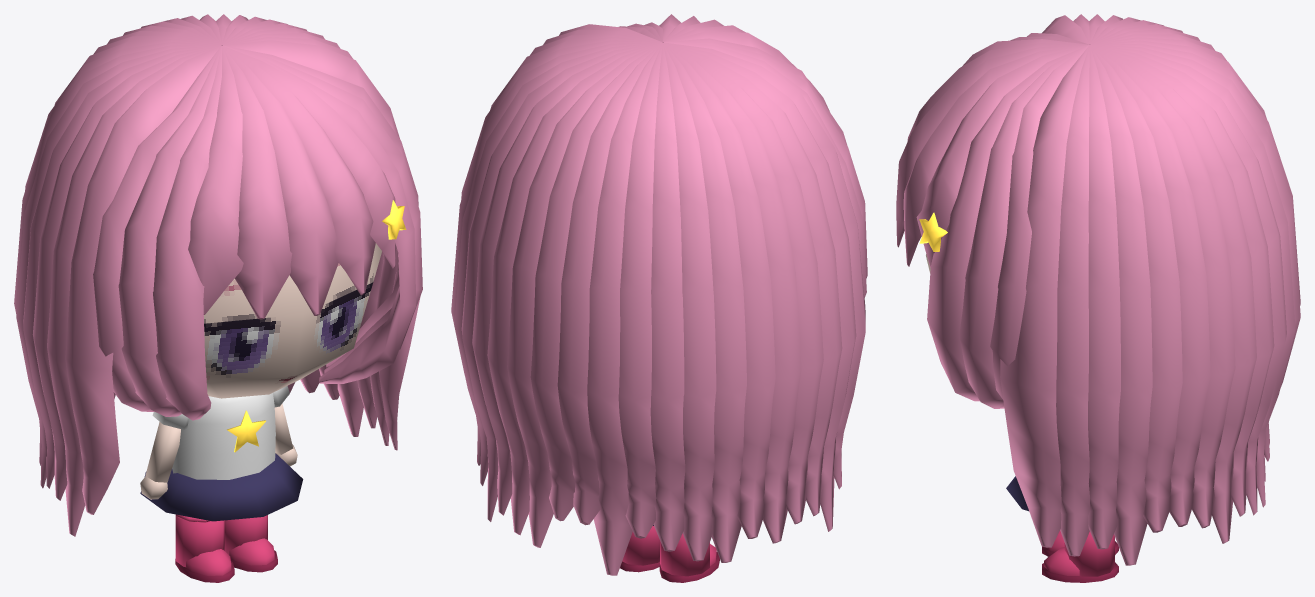
File: momoimoimi.glb
The picture shows the model from 3 angles, left to right: view 1: azimuth 30°, elevation 25°; view 2: azimuth 150°, elevation 25°; view 3: azimuth 270°, elevation 25°; orthographic projection.
Visible parts, largest first — view 1: momo_hair, momo_face, momo_hair_side_L0, momo_hair_side_L1, momo_bangs_1, momo_bangs_2, momo_bangs_0, momo_hair_side_L2, momo_bangs_3, momo_hair_side_R0, momo_tee, momo_skirt (+11 smaller); view 2: momo_hair, momo_hair_side_L1, momo_hair_side_L2, momo_boot_L, momo_bangs_0, momo_boot_R, momo_hair_side_L0; view 3: momo_hair, momo_hair_side_R1, momo_hair_side_R0, momo_hair_side_R2, momo_bangs_4, momo_bangs_3, momo_bangs_2, momo_bangs_1, momo_boot_R, momo_boot_toe_R, momo_star_clip, momo_bangs_0 (+1 smaller).
Boxes of the visible parts, box(x1,y1,x2,y2) form: momo_hair: box(14, 14, 420, 536); momo_face: box(203, 243, 381, 398); momo_hair_side_L0: box(153, 47, 221, 420); momo_hair_side_L1: box(118, 46, 221, 416); momo_bangs_1: box(222, 46, 292, 319); momo_bangs_2: box(222, 46, 338, 315); momo_bangs_0: box(188, 46, 243, 314); momo_hair_side_L2: box(93, 46, 221, 411); momo_bangs_3: box(223, 46, 375, 295); momo_hair_side_R0: box(225, 46, 416, 383); momo_tee: box(172, 393, 275, 479); momo_skirt: box(140, 453, 303, 521); momo_hair: box(451, 24, 865, 575); momo_hair_side_L1: box(666, 41, 867, 278); momo_hair_side_L2: box(664, 42, 866, 298); momo_boot_L: box(660, 533, 709, 576); momo_bangs_0: box(664, 31, 829, 111); momo_boot_R: box(622, 526, 659, 565); momo_hair_side_L0: box(665, 38, 847, 145); momo_hair: box(1000, 14, 1300, 565); momo_hair_side_R1: box(959, 45, 1088, 408); momo_hair_side_R0: box(927, 45, 1088, 401); momo_hair_side_R2: box(990, 45, 1088, 399); momo_bangs_4: box(916, 45, 1087, 267); momo_bangs_3: box(903, 45, 1087, 266); momo_bangs_2: box(896, 45, 1086, 247); momo_bangs_1: box(907, 43, 1088, 141); momo_boot_R: box(1064, 531, 1114, 576); momo_boot_toe_R: box(1044, 547, 1079, 575); momo_star_clip: box(919, 212, 947, 251); momo_bangs_0: box(963, 39, 1086, 65).
Size of the model in its own units: 1.54 by 2.11 by 1.5.
Materials: 10 (1 with a texture image).
